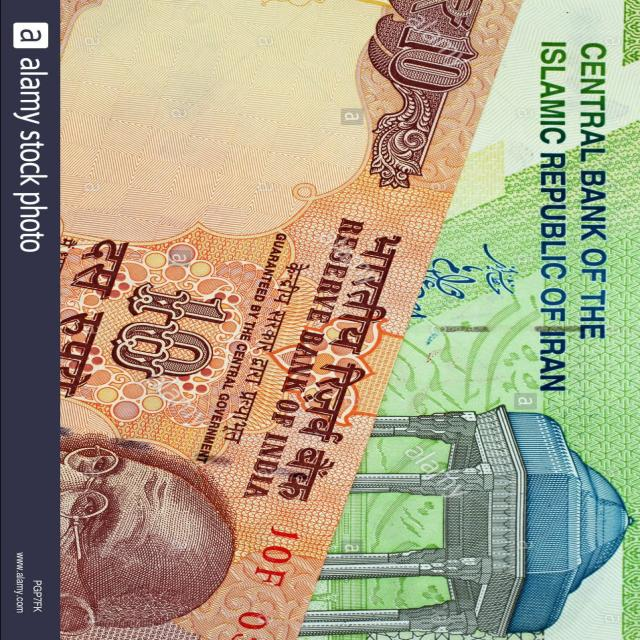10IndianRupees: (61, 3, 508, 637)
